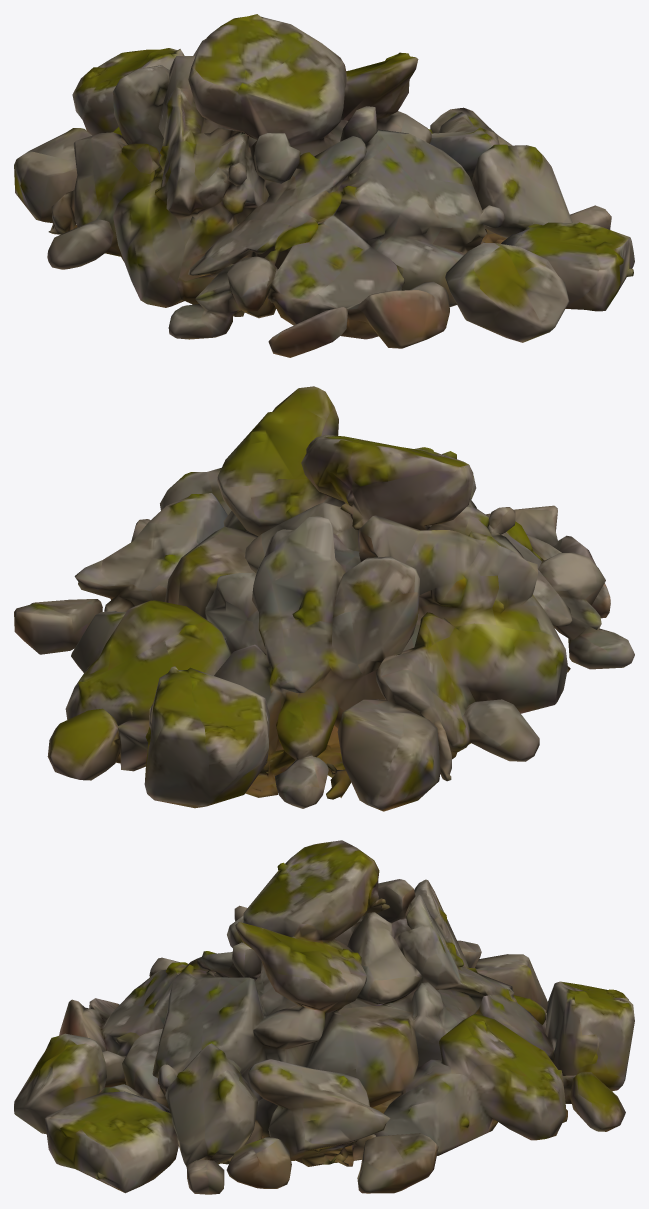
The model's file is ruin_rubble.glb.
3 renders of one model, top to bottom at view 1: azimuth 30°, elevation 25°; view 2: azimuth 150°, elevation 25°; view 3: azimuth 270°, elevation 25°, orthographic. The views are drawn at different scales.
Parts seen in each view (by area): view 1: tripo_node_804920f4-55f5-4b9b-a419-f1360cc06ddb; view 2: tripo_node_804920f4-55f5-4b9b-a419-f1360cc06ddb; view 3: tripo_node_804920f4-55f5-4b9b-a419-f1360cc06ddb.
Part boxes in pixels (<box>): tripo_node_804920f4-55f5-4b9b-a419-f1360cc06ddb: <box>14,14,634,357</box>; tripo_node_804920f4-55f5-4b9b-a419-f1360cc06ddb: <box>14,386,634,811</box>; tripo_node_804920f4-55f5-4b9b-a419-f1360cc06ddb: <box>14,840,634,1194</box>.
Bounding box in the file's own units: 0.8048 × 0.3934 × 0.9973.
Materials: 1 (1 with a texture image).
